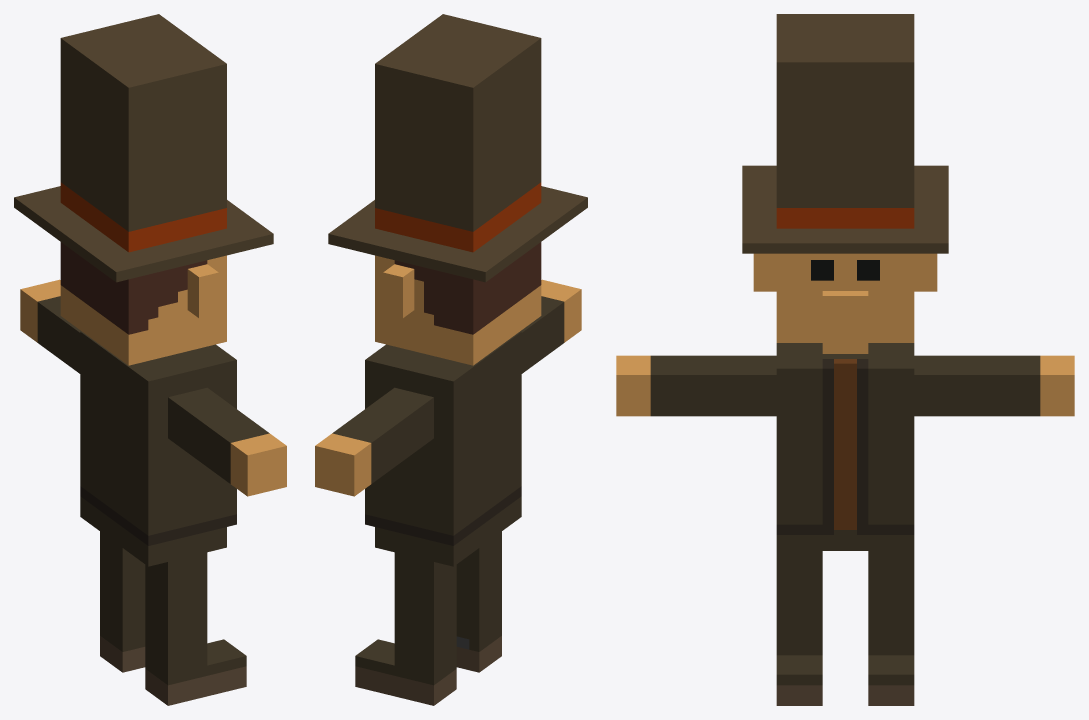
The model's file is main.obj.
3 renders of one model, left to right at view 1: azimuth 30°, elevation 25°; view 2: azimuth 150°, elevation 25°; view 3: azimuth 270°, elevation 25°, orthographic.
Bounding box in the file's own units: 1.6 × 6.1 × 4.
1 material, 1 textured.
